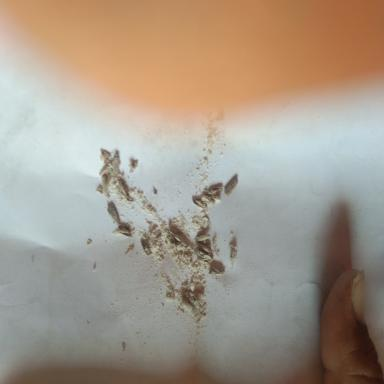pbw: (118, 178, 133, 201), (107, 199, 120, 225), (169, 231, 187, 246), (224, 177, 238, 196), (112, 150, 121, 176), (197, 250, 214, 262), (100, 160, 112, 176), (168, 223, 176, 247), (102, 174, 109, 198), (140, 239, 150, 255), (193, 197, 207, 208), (180, 301, 194, 312), (118, 226, 132, 237), (208, 266, 225, 275), (200, 194, 215, 204), (207, 186, 223, 195), (230, 245, 237, 265), (198, 243, 211, 253), (196, 234, 210, 242), (129, 160, 138, 172), (194, 292, 207, 300), (210, 195, 220, 203)
